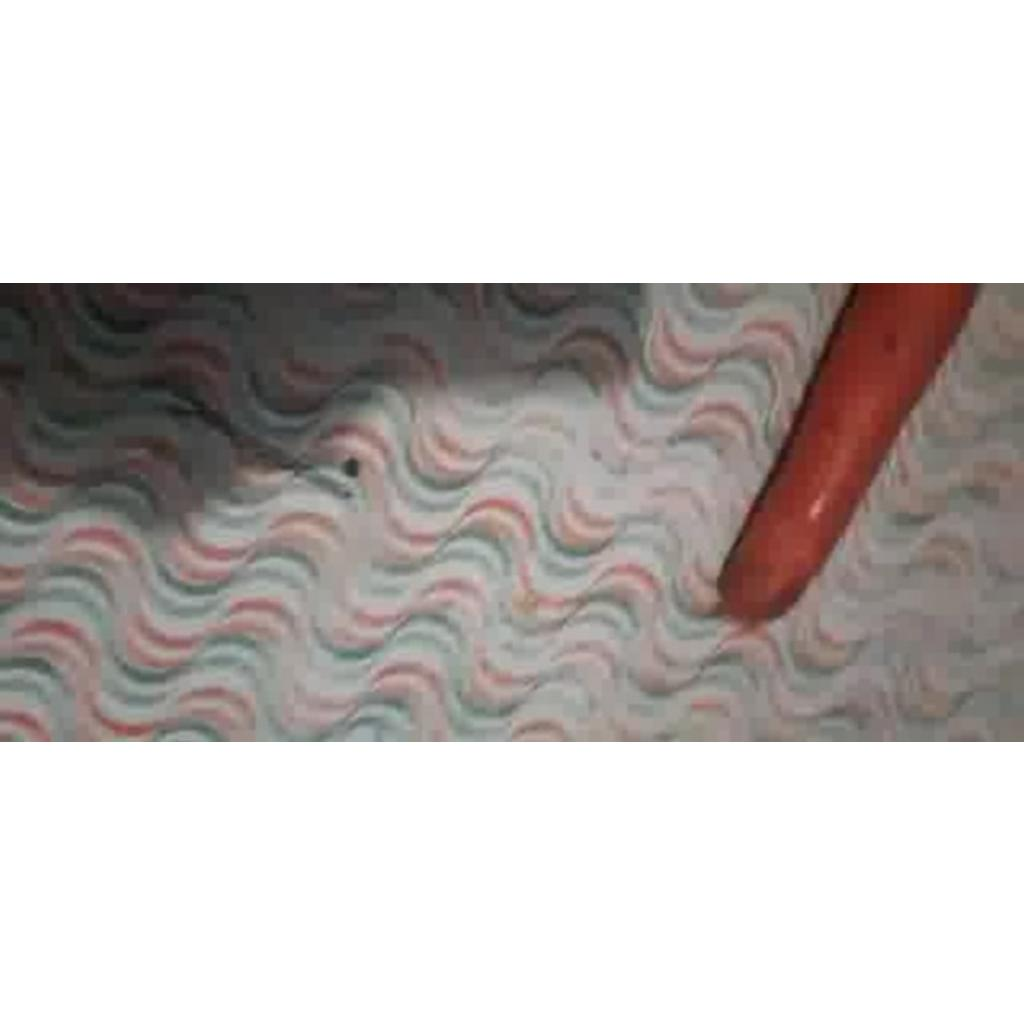carrot: (718, 282, 974, 619)
